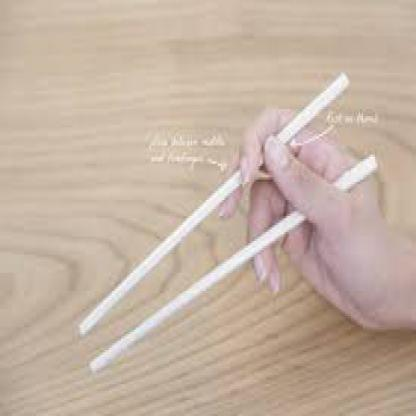chopstick: (77, 68, 351, 334), (88, 152, 378, 373)
